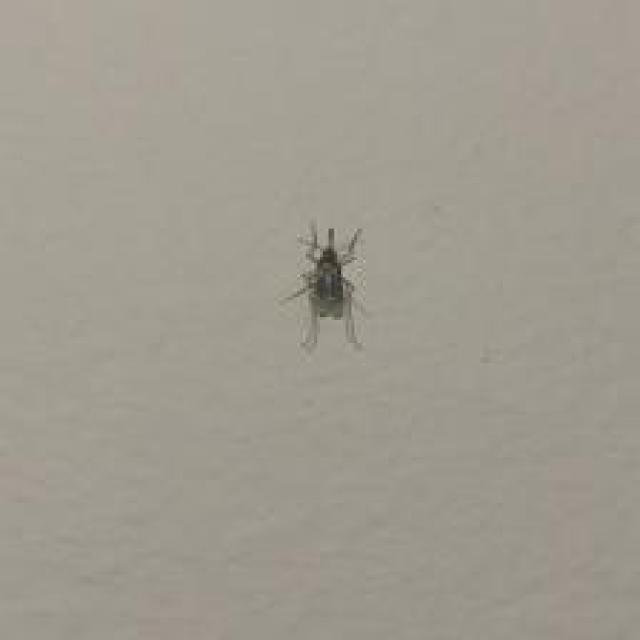Culex: (280, 218, 369, 353)
